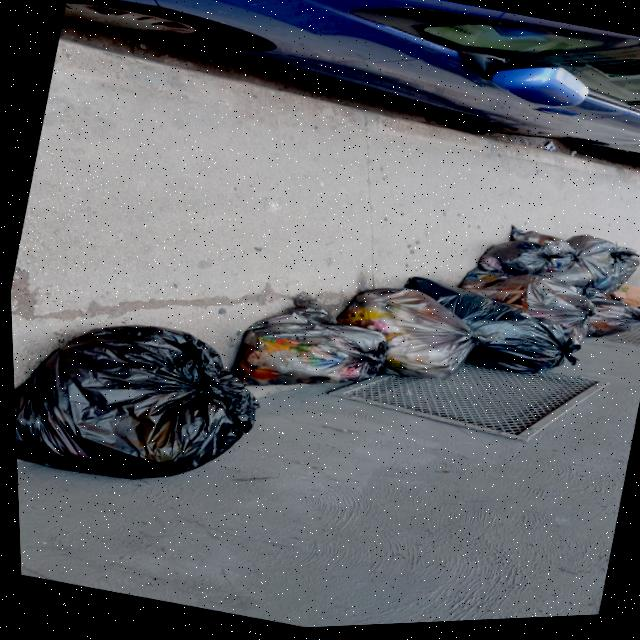Mixed Waste -Black Bag-: (10, 290, 273, 513), (221, 278, 410, 422), (324, 275, 510, 405), (390, 273, 587, 395), (448, 258, 601, 356), (552, 234, 640, 307), (473, 234, 568, 293), (500, 227, 587, 288), (565, 295, 640, 358)
Other: (599, 285, 640, 320)
